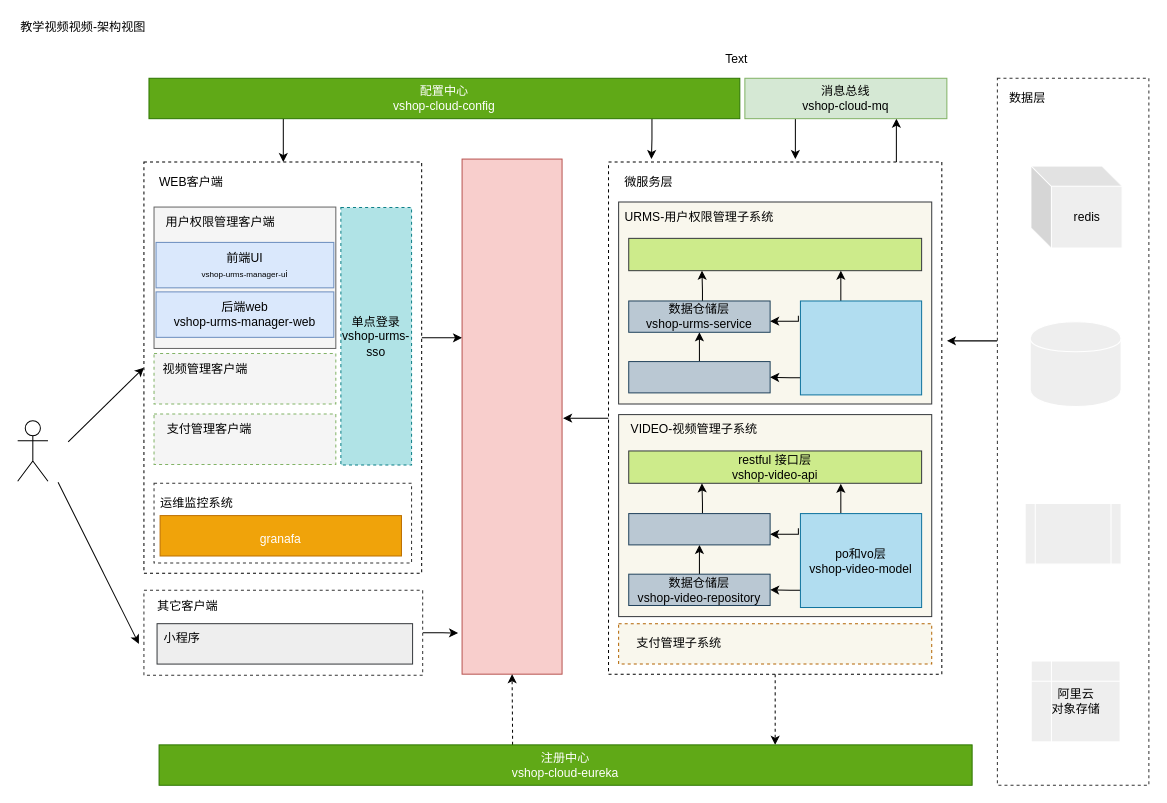
The diagram is 1167 pixels wide and 803 high, and some of its shapes have lost their labels. The shapes that lost their labels are listed below. From the top down, each one's centre as x and y in pixels, then its label:
(x=775, y=254): restful 接口层 vshop-urms-api
(x=860, y=347): po和vo层 vshop-urms-model
(x=1075, y=364): mysql
(x=699, y=377): 数据仓储层 vshop-urms-repository
(x=511, y=416): api网关 vshop-cloud-gateway
(x=32, y=450): Actor
(x=699, y=529): 数据仓储层 vshop-video-service
(x=1072, y=533): Prometheus
